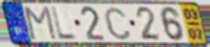2: (80, 5, 106, 42), (136, 6, 162, 42)
6: (160, 6, 186, 42)
C: (102, 6, 134, 42)
L: (50, 6, 79, 41)
M: (23, 5, 59, 41)
